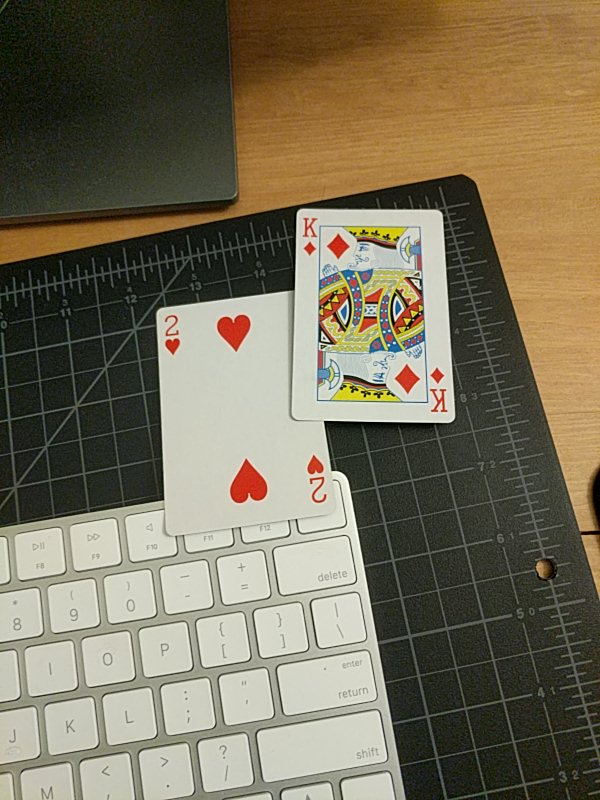Diamonds: (293, 209, 458, 425)
Hearts: (157, 291, 335, 534)
